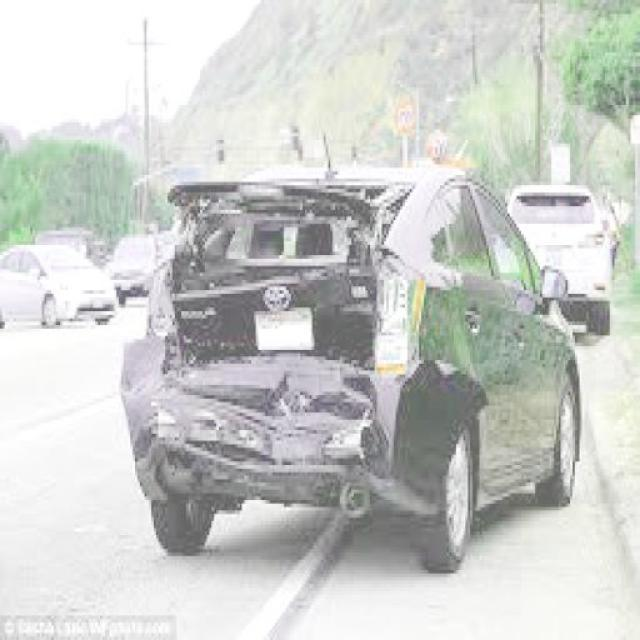car damage: (122, 171, 434, 507)
